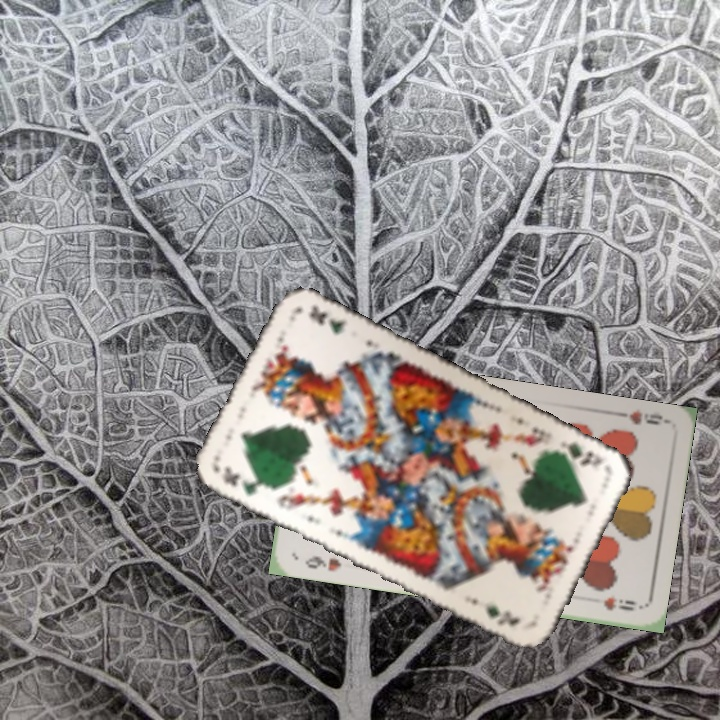GK: (218, 462, 273, 498), (553, 437, 605, 469)
H9: (610, 406, 669, 428), (300, 552, 344, 574)
